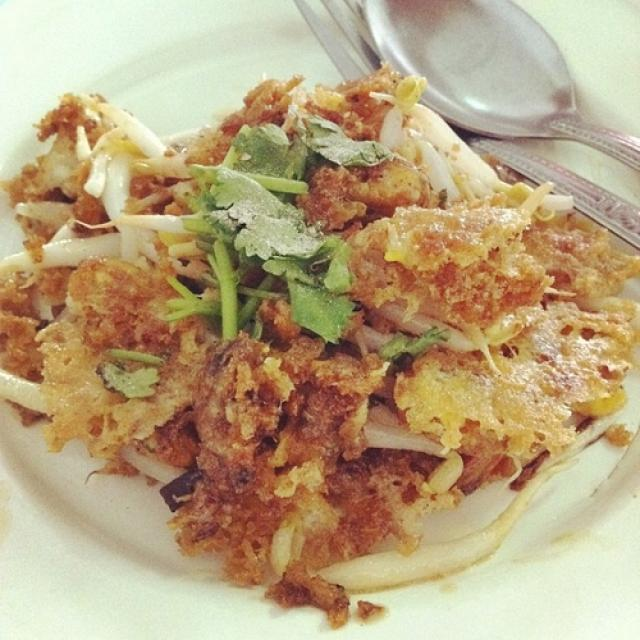炸货点心: (8, 26, 635, 613)
蛋糕甜品: (8, 26, 635, 613)
